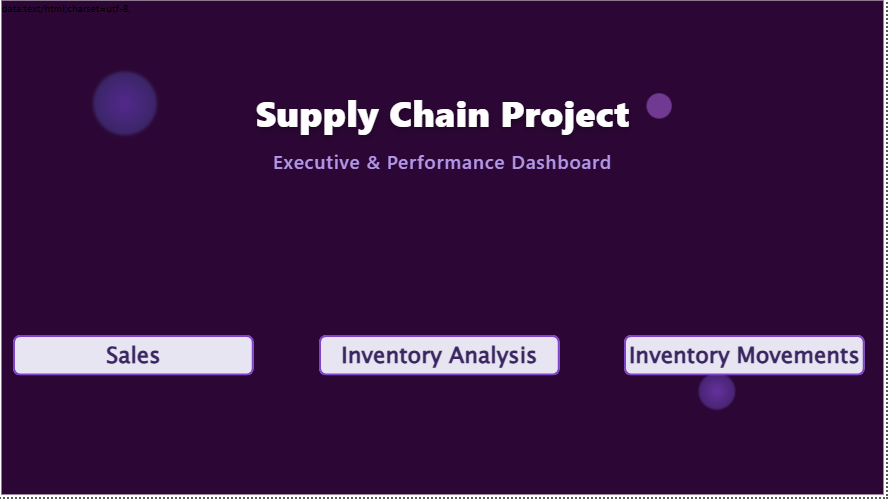

The dashboard page shown, as its layout file describes it:
{"tool":"powerbi","page":{"name":"Home","canvas":[1280,720],"ordinal":0},"visuals":[{"type":"htmlContent443BE3AD55E043BF878BED274D3A6855","fields":{"content":["Measureable Table.Animated Landing Header"]},"box":[0,0,1280,720],"z":0},{"type":"shape","box":[901.7,487,346.7,58.3],"z":1000},{"type":"shape","box":[461.7,487,346.7,58.3],"z":2000},{"type":"shape","box":[21.7,487,346.7,58.3],"z":3000}]}

Visuals, with their boxes in screenshot pixels (x1, y1, x2, y2), scaled from the page's 1280x720 canvas onto the 888x499 screenshot:
htmlContent443BE3AD55E043BF878BED274D3A6855 - Measureable Table.Animated Landing Header: 0:0:887:498
shape: 626:338:866:378
shape: 320:338:561:378
shape: 15:338:256:378
